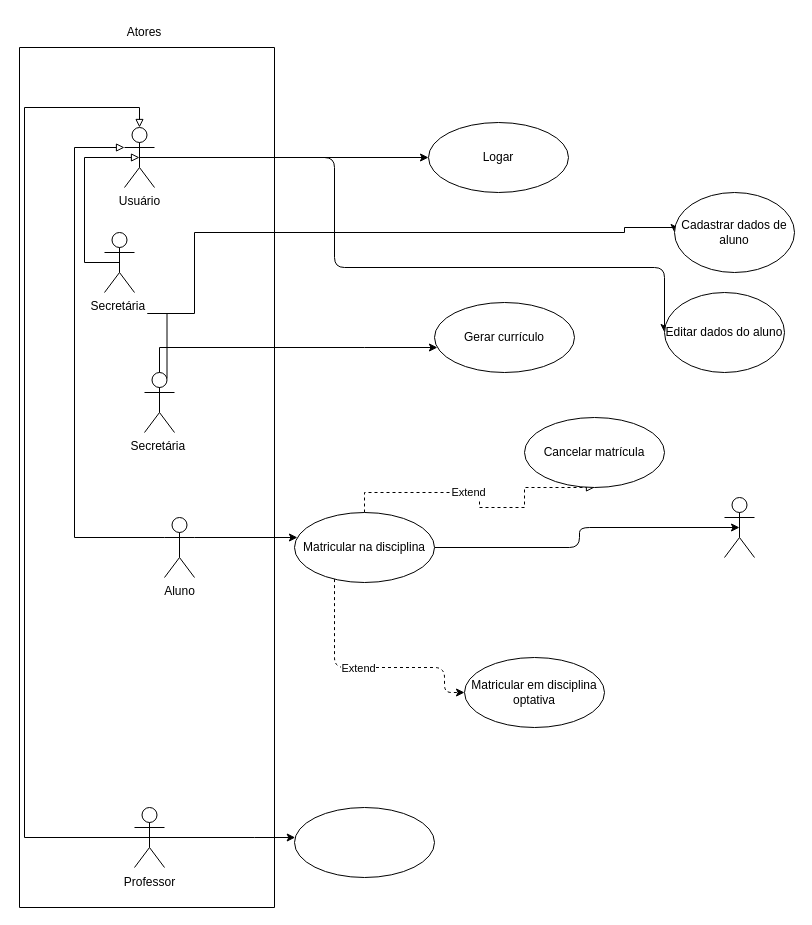
Some shapes in this 812 by 925 pixel diagram are drawn without their labels. Each missing label, with the centre of its shape:
Financeiro: the point at 739,527
Visualizar alunos nas disciplinas lecionadas: the point at 364,842
